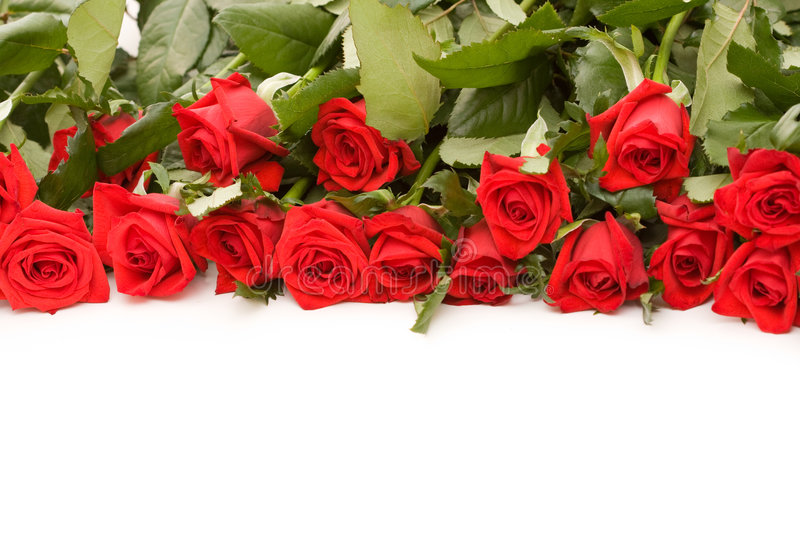RedRose: (163, 45, 287, 184), (31, 79, 146, 185), (307, 94, 416, 203), (0, 206, 113, 308), (91, 185, 194, 292), (281, 199, 372, 312), (551, 213, 638, 321), (478, 149, 567, 245), (584, 79, 686, 159), (450, 216, 515, 326), (207, 199, 284, 287), (726, 144, 795, 239), (656, 224, 725, 316), (377, 212, 449, 298), (738, 229, 793, 338), (664, 173, 720, 217)
